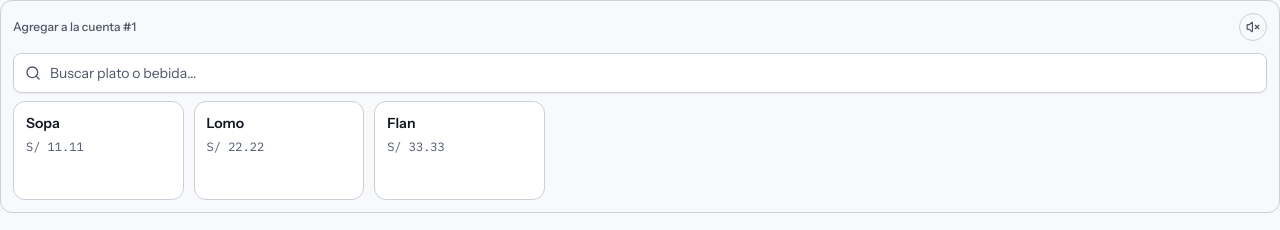
Test case: OrderComposer card renders (CP-01) › the stepper + and - also leave the other cards alone
The image size is (1280, 230).
Click the button "Lomo S/ 22.22" at (279, 151), box [195,102,363,199]
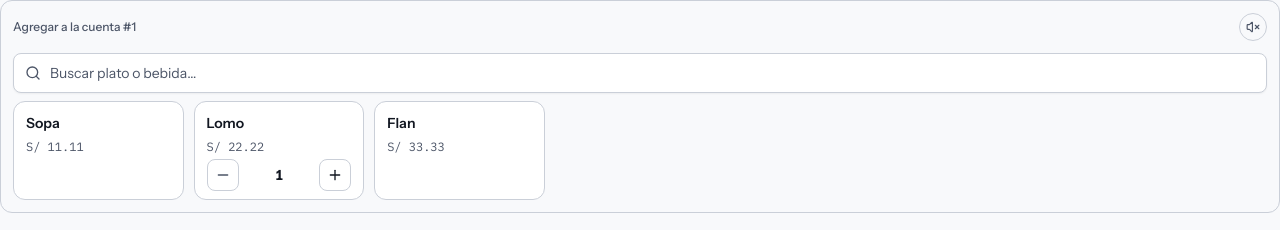
Click the button named "Agregar uno de Lomo" at (335, 175), box [319,159,351,191]
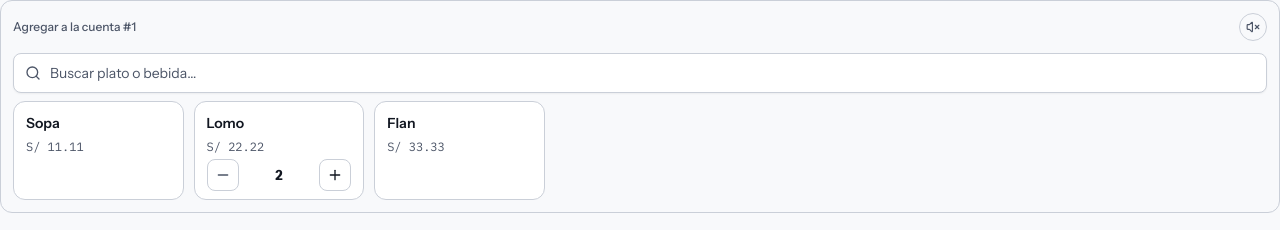
Expected: the text "2" is shown, [275,165,283,185]
Click the button named "Quitar uno de Lomo" at (223, 175), box [207,159,239,191]
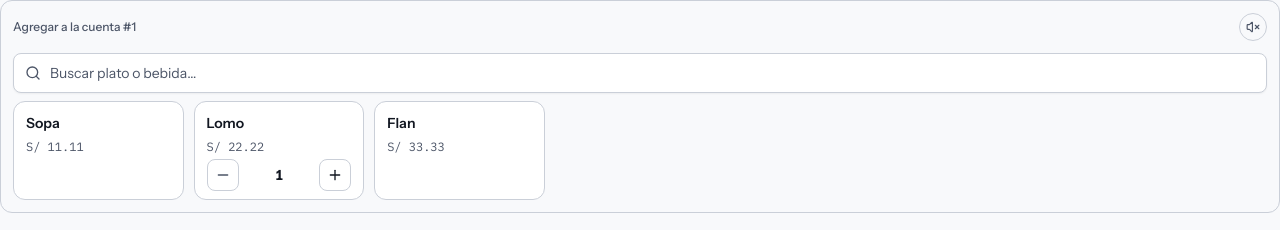
Expected: the text "1" is shown, [275,165,283,185]
